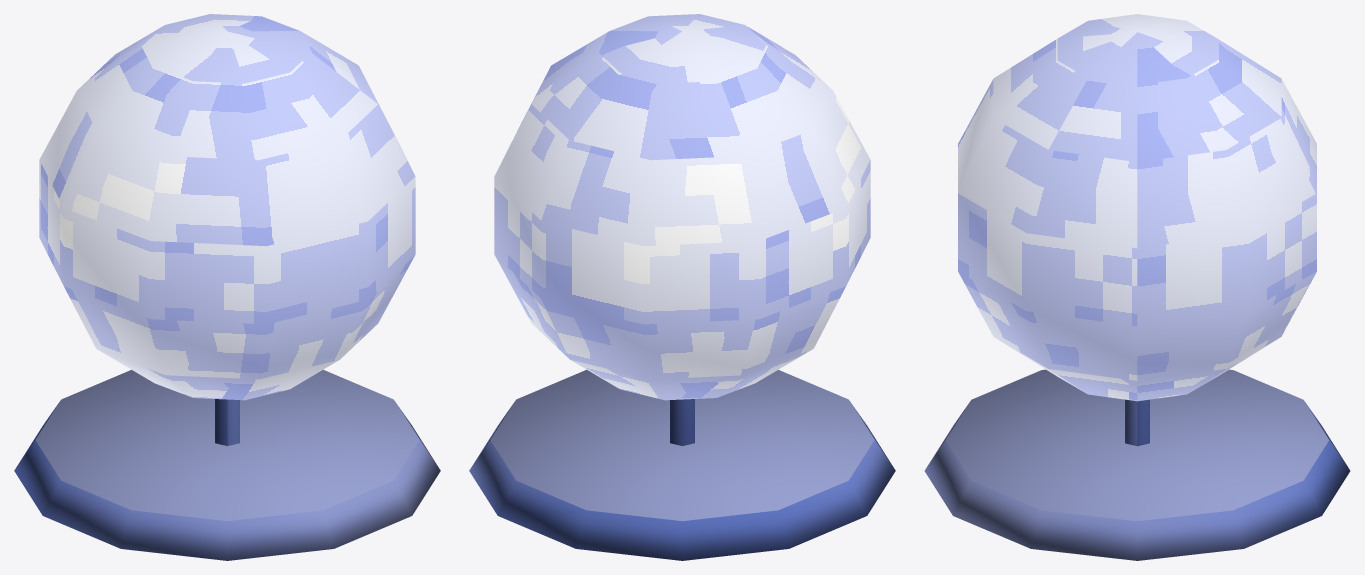
File: furn.lamp__globe.glb
3 views of the same model, side by side, from view 1: azimuth 30°, elevation 25°; view 2: azimuth 150°, elevation 25°; view 3: azimuth 270°, elevation 25° (orthographic).
Visible parts, largest first — view 1: kit_lamp_shade, kit_lamp_stand; view 2: kit_lamp_shade, kit_lamp_stand; view 3: kit_lamp_shade, kit_lamp_stand.
Part boxes in pixels (left/top/right/bottom): kit_lamp_shade: left=39, top=14, right=415, bottom=400; kit_lamp_stand: left=14, top=369, right=440, bottom=560; kit_lamp_shade: left=494, top=14, right=870, bottom=400; kit_lamp_stand: left=469, top=369, right=895, bottom=560; kit_lamp_shade: left=958, top=14, right=1316, bottom=401; kit_lamp_stand: left=924, top=369, right=1350, bottom=560.
Size of the model in its own units: 0.44 by 0.5 by 0.44.
2 materials, 1 textured.
